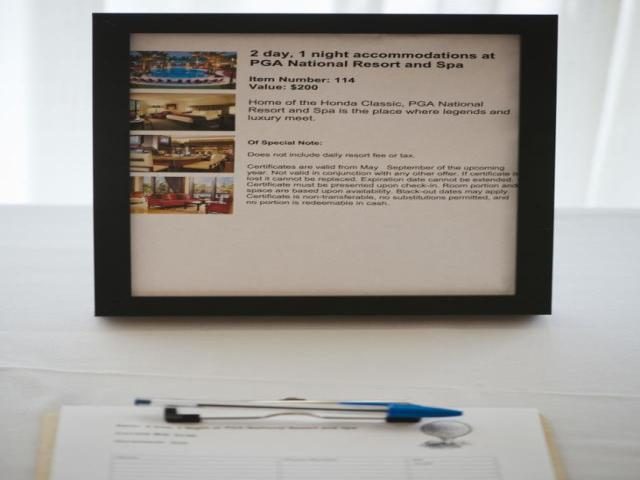PEN: (119, 386, 469, 439)
